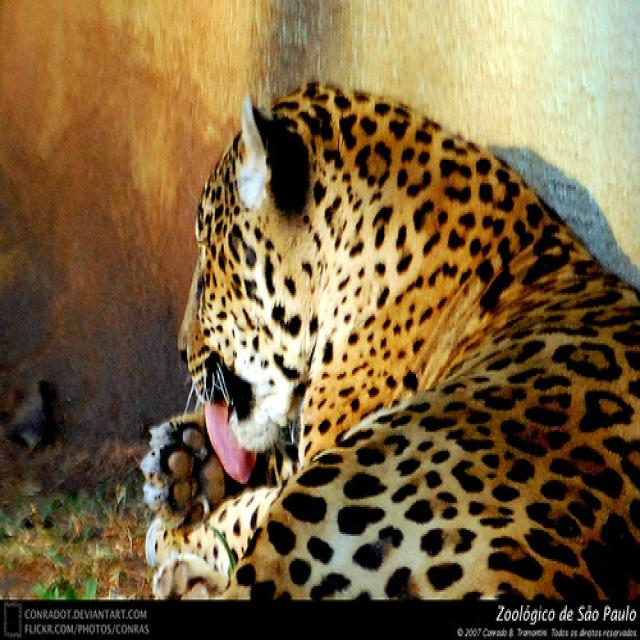Leopard: (135, 73, 638, 607)
